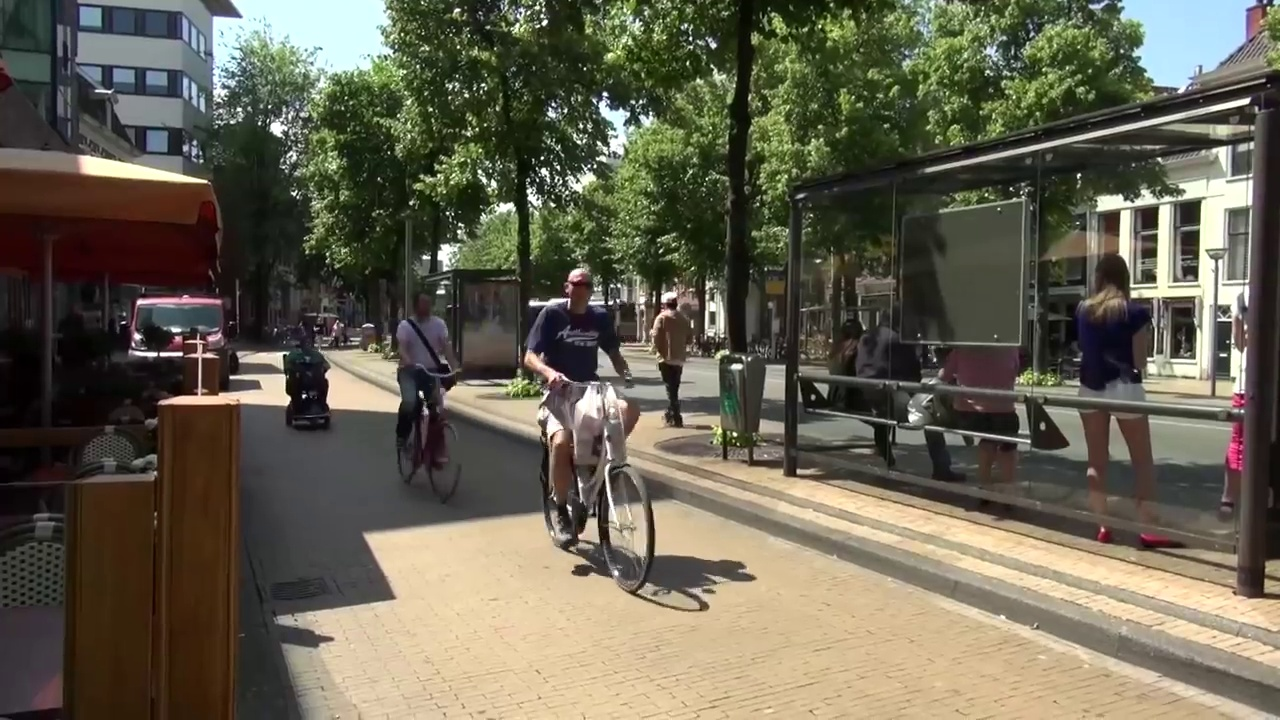cyclist_front: (523, 250, 661, 600), (390, 278, 472, 512)
